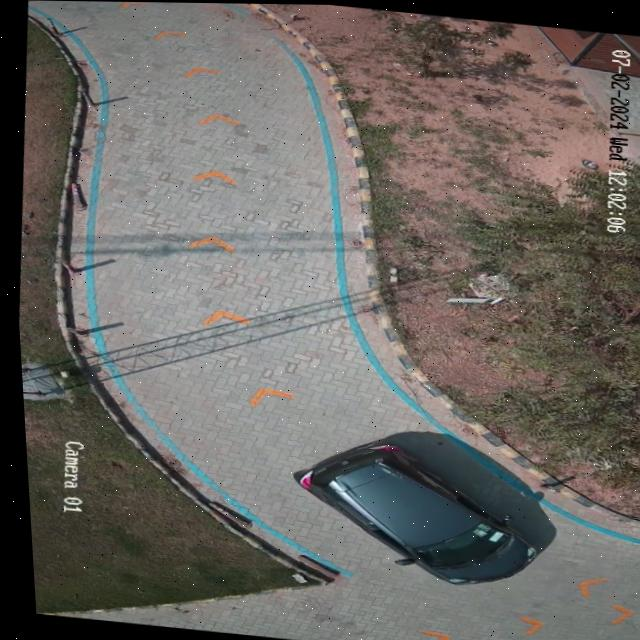car: (287, 443, 527, 583)
